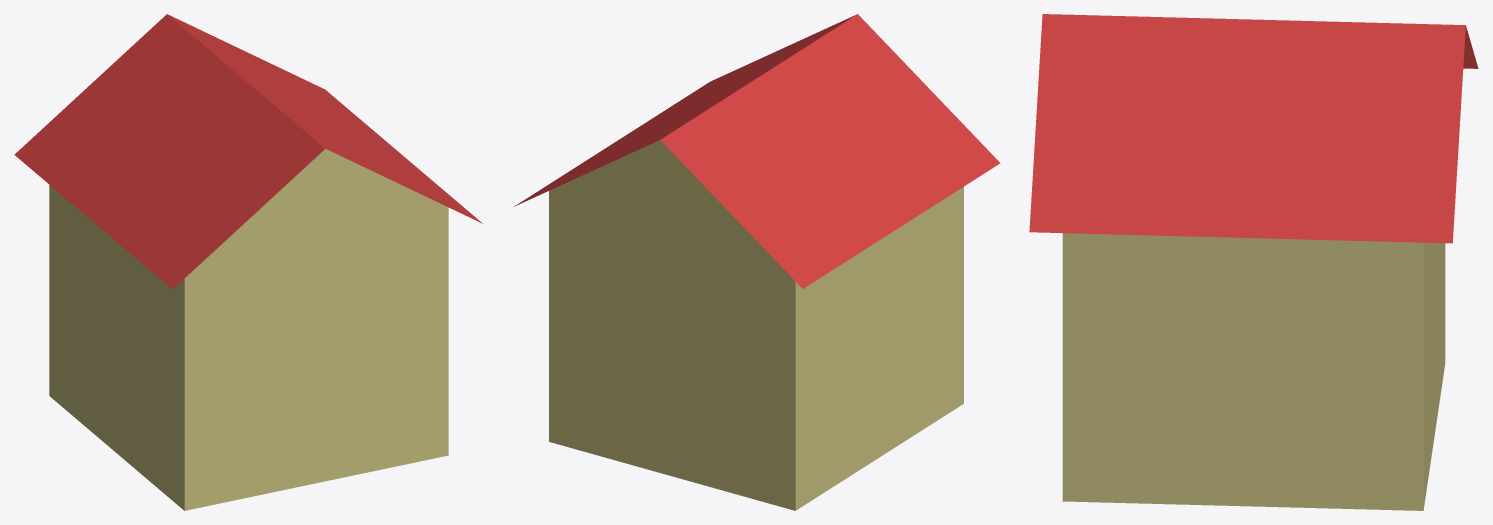
3 views of the same model, side by side, from view 1: azimuth 30°, elevation 25°; view 2: azimuth 150°, elevation 25°; view 3: azimuth 270°, elevation 25° (orthographic). The views are drawn at different scales.
Bounding box in the file's own units: 10.54 × 10.78 × 10.89.
